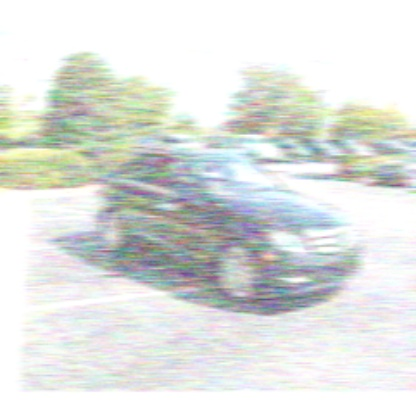Vehicle: (93, 152, 367, 308)
